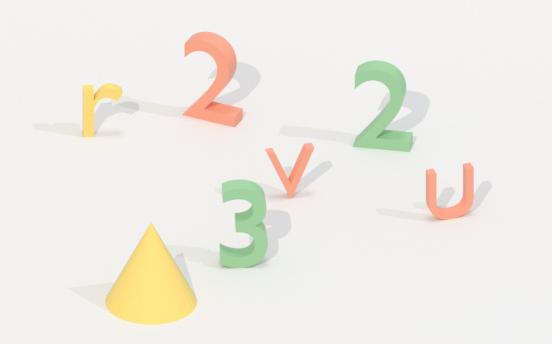2: (170, 28, 250, 136), (348, 59, 419, 162)
3: (215, 170, 275, 276)
R: (78, 80, 125, 142)
non: (102, 220, 198, 329)
u: (424, 159, 479, 221)
v: (263, 137, 321, 204)
